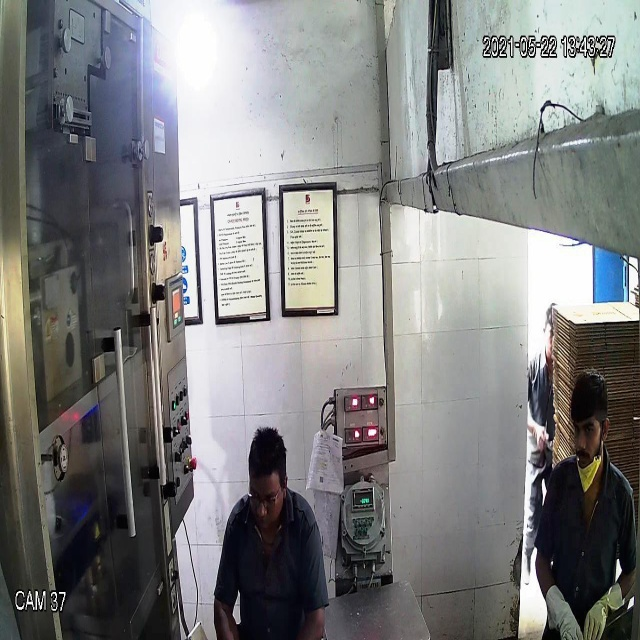Gafas: (243, 477, 287, 514)
Sin_gafas: (569, 416, 602, 443)
